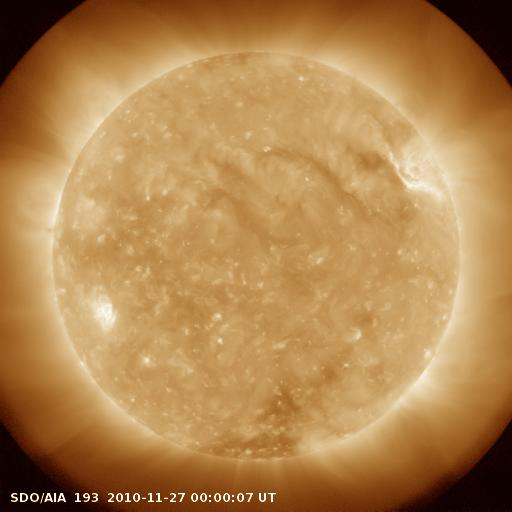coronal_hole: (206, 380, 305, 463), (351, 144, 397, 180)
